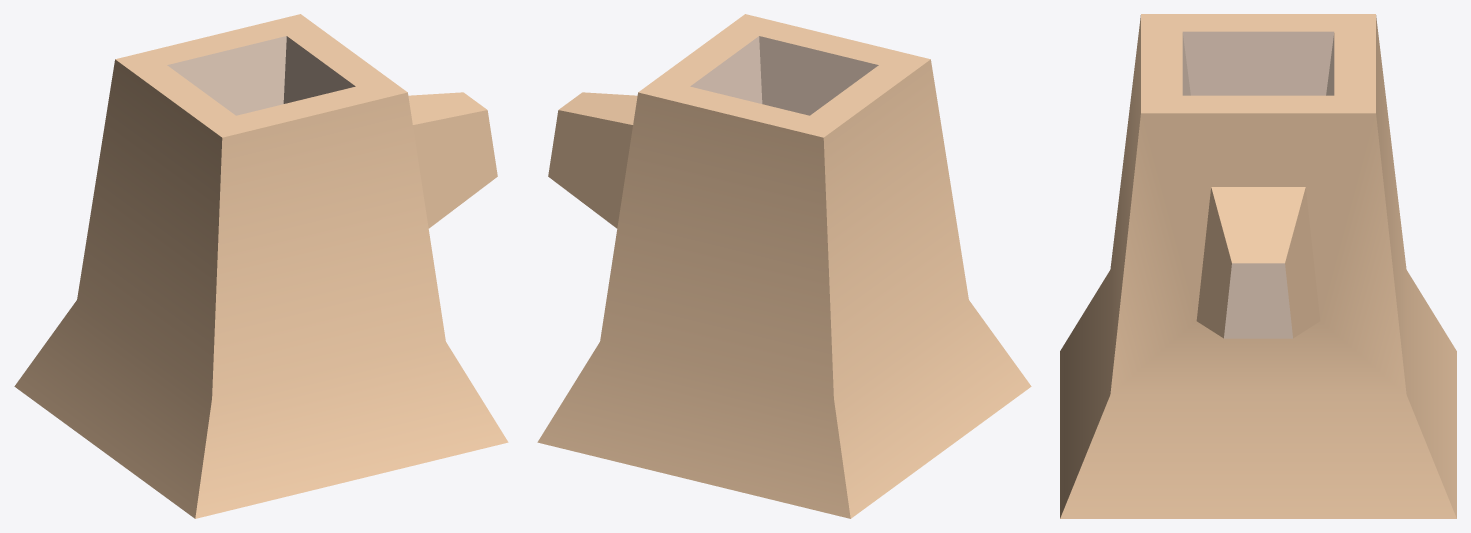
The model's file is treeStump_deep_side.glb.
3 views of the same model, side by side, from view 1: azimuth 30°, elevation 25°; view 2: azimuth 150°, elevation 25°; view 3: azimuth 270°, elevation 25° (orthographic). The views are drawn at different scales.
Visible parts, largest first — view 1: treeStump_deep_side; view 2: treeStump_deep_side; view 3: treeStump_deep_side.
Boxes of the visible parts, x1,y1,x2,y2 form: treeStump_deep_side: [14, 14, 508, 518]; treeStump_deep_side: [537, 14, 1031, 518]; treeStump_deep_side: [1060, 14, 1456, 518].
Size of the model in its own units: 0.3386 by 0.2905 by 0.2813.
